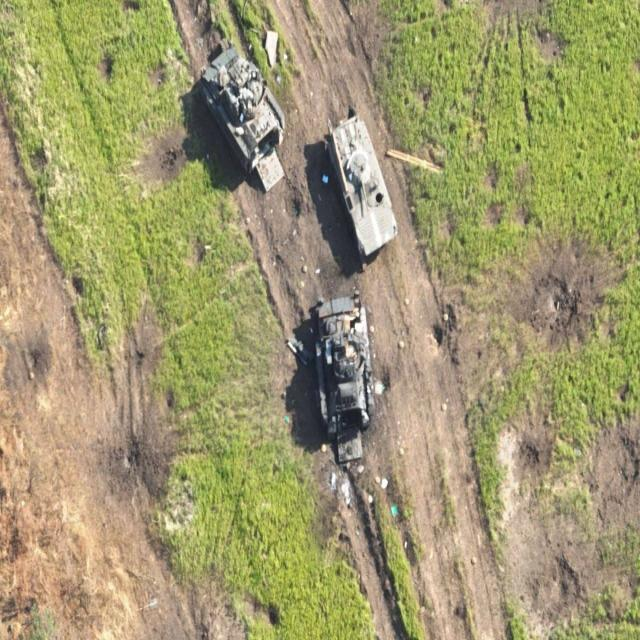AIFV: (198, 43, 289, 192), (310, 290, 377, 461), (330, 114, 400, 260)
